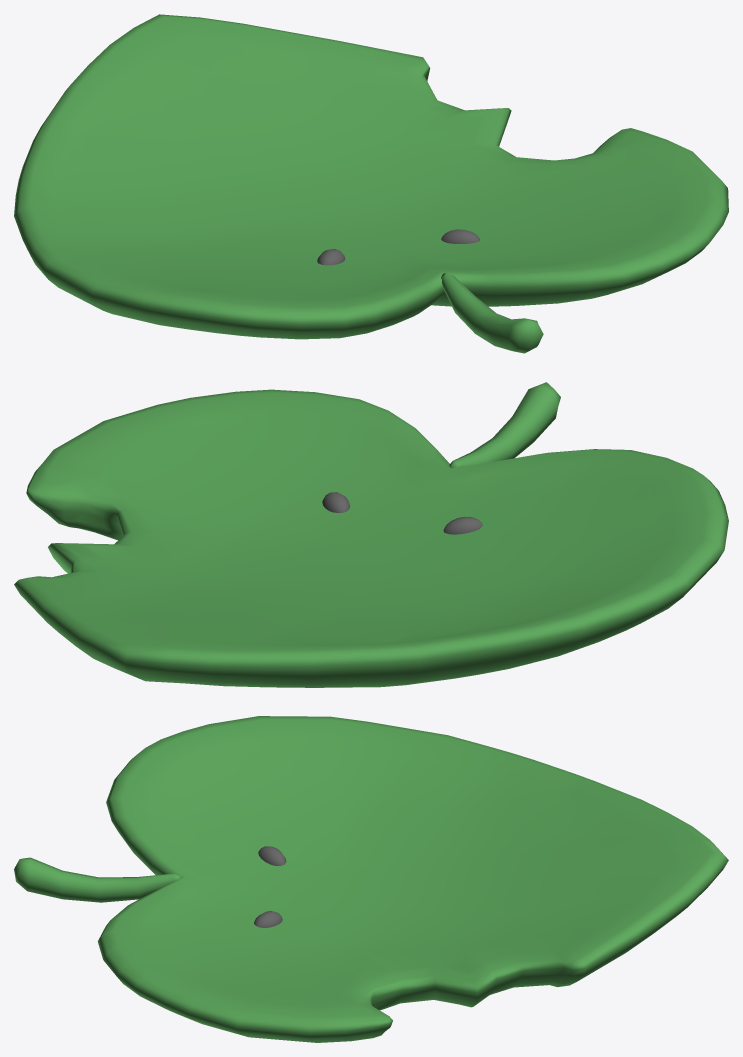
The model's file is leaf.fbx.
3 renders of one model, top to bottom at view 1: azimuth 30°, elevation 25°; view 2: azimuth 150°, elevation 25°; view 3: azimuth 270°, elevation 25°, orthographic. The views are drawn at different scales.
Visible parts, largest first — view 1: rig_v001_Ant:Leaf, rig_v001_Ant:Leaf_Stalk, rig_v001_Ant:Eyes1; view 2: rig_v001_Ant:Leaf, rig_v001_Ant:Leaf_Stalk, rig_v001_Ant:Eyes1; view 3: rig_v001_Ant:Leaf, rig_v001_Ant:Leaf_Stalk, rig_v001_Ant:Eyes1.
Boxes of the visible parts, x1,y1,x2,y2 form: rig_v001_Ant:Leaf: [14, 14, 728, 339]; rig_v001_Ant:Leaf_Stalk: [441, 272, 543, 353]; rig_v001_Ant:Eyes1: [317, 229, 479, 265]; rig_v001_Ant:Leaf: [14, 389, 728, 687]; rig_v001_Ant:Leaf_Stalk: [449, 382, 560, 468]; rig_v001_Ant:Eyes1: [322, 492, 482, 534]; rig_v001_Ant:Leaf: [97, 716, 728, 1042]; rig_v001_Ant:Leaf_Stalk: [14, 857, 182, 902]; rig_v001_Ant:Eyes1: [254, 846, 286, 927].
Bounding box in the file's own units: 7.1 × 1.04 × 7.63.
